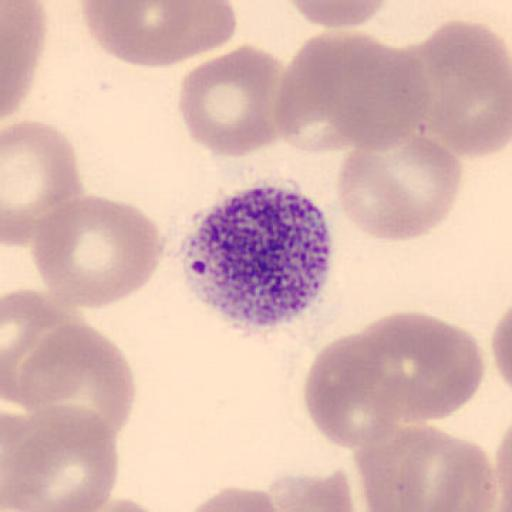Platelet: (180, 179, 342, 332)
RBC: (303, 315, 448, 451), (274, 31, 432, 154), (30, 193, 166, 309), (17, 323, 138, 444), (357, 310, 484, 424), (335, 134, 464, 243), (0, 288, 115, 407), (414, 20, 512, 159), (324, 32, 434, 152), (352, 421, 496, 512), (2, 403, 120, 512), (176, 43, 286, 159), (303, 328, 405, 449), (351, 311, 450, 425), (79, 0, 240, 68), (2, 118, 85, 247), (272, 45, 365, 154), (394, 312, 486, 418), (1, 287, 74, 404), (336, 146, 420, 242), (352, 422, 436, 512), (0, 0, 47, 121), (262, 471, 356, 512), (284, 0, 390, 30), (178, 485, 282, 512), (488, 426, 512, 512), (490, 304, 512, 395), (70, 496, 187, 512), (89, 496, 170, 512)
